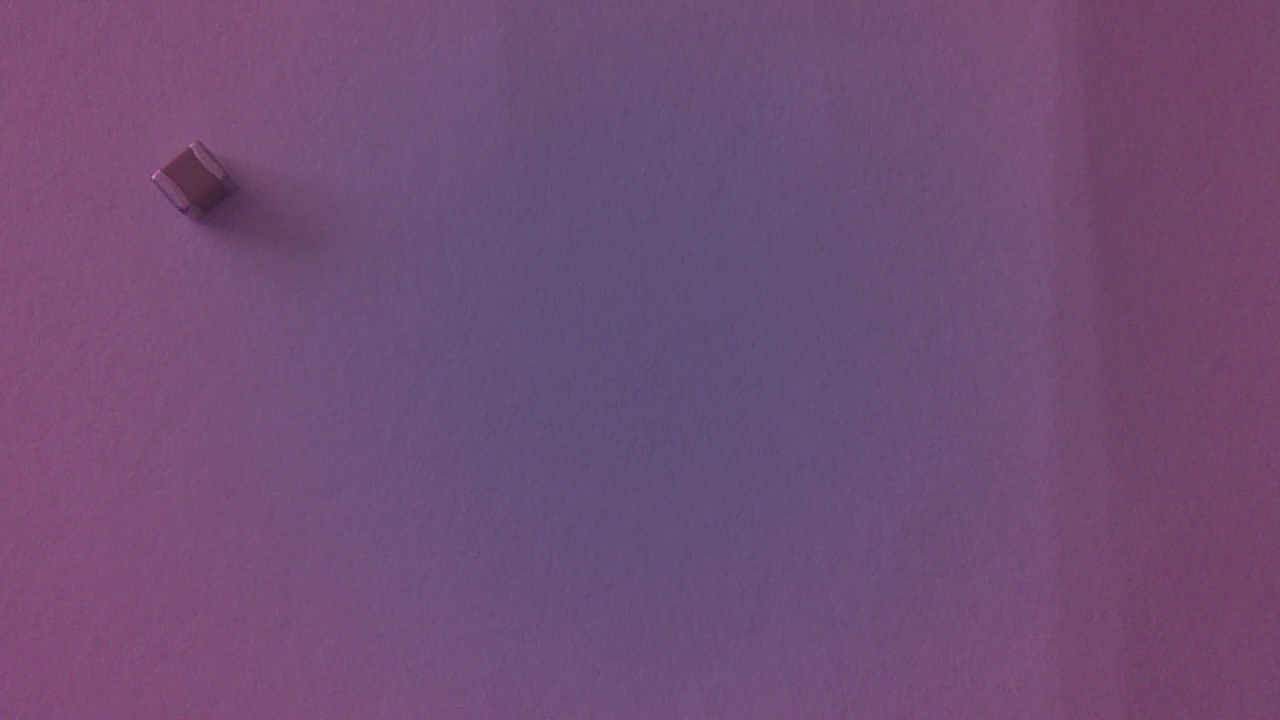Condensator: (149, 142, 246, 230)
